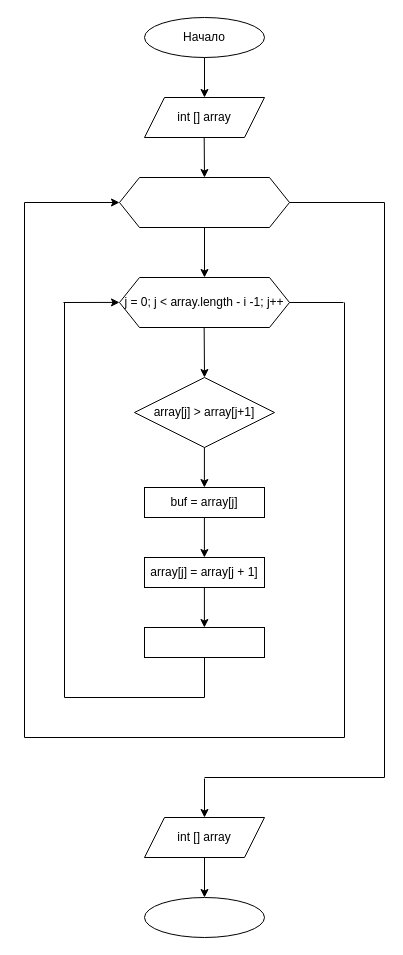
Image size: 403x955. Some labels were removed from this diagram. The shapes that lost their labels are listed below. From the top down, each one's centre as x and y in pixels, then its label:
the point at 204,202: i = 0; i < array.length; i++
the point at 204,642: array[j+1] = buf
the point at 204,917: Конец
